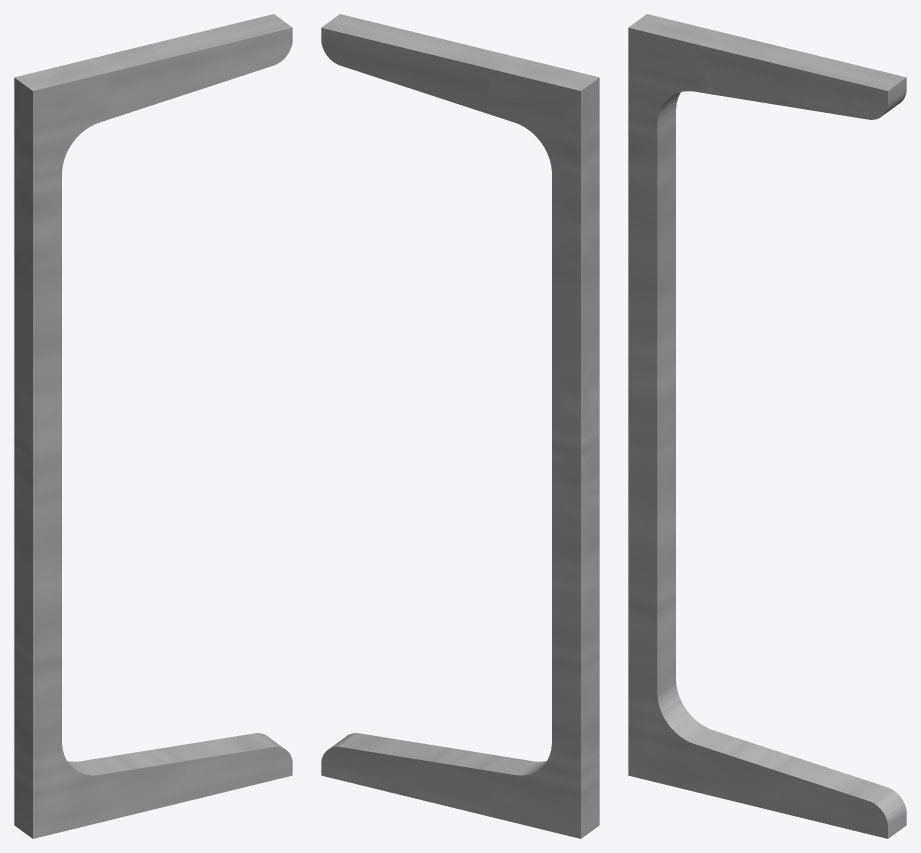
Rendered from UPN220.glb.
The picture shows the model from 3 angles, left to right: view 1: azimuth 30°, elevation 25°; view 2: azimuth 150°, elevation 25°; view 3: azimuth 330°, elevation 25°; orthographic projection.
Bounding box in the file's own units: 8 × 22 × 1.
1 material, 1 textured.
